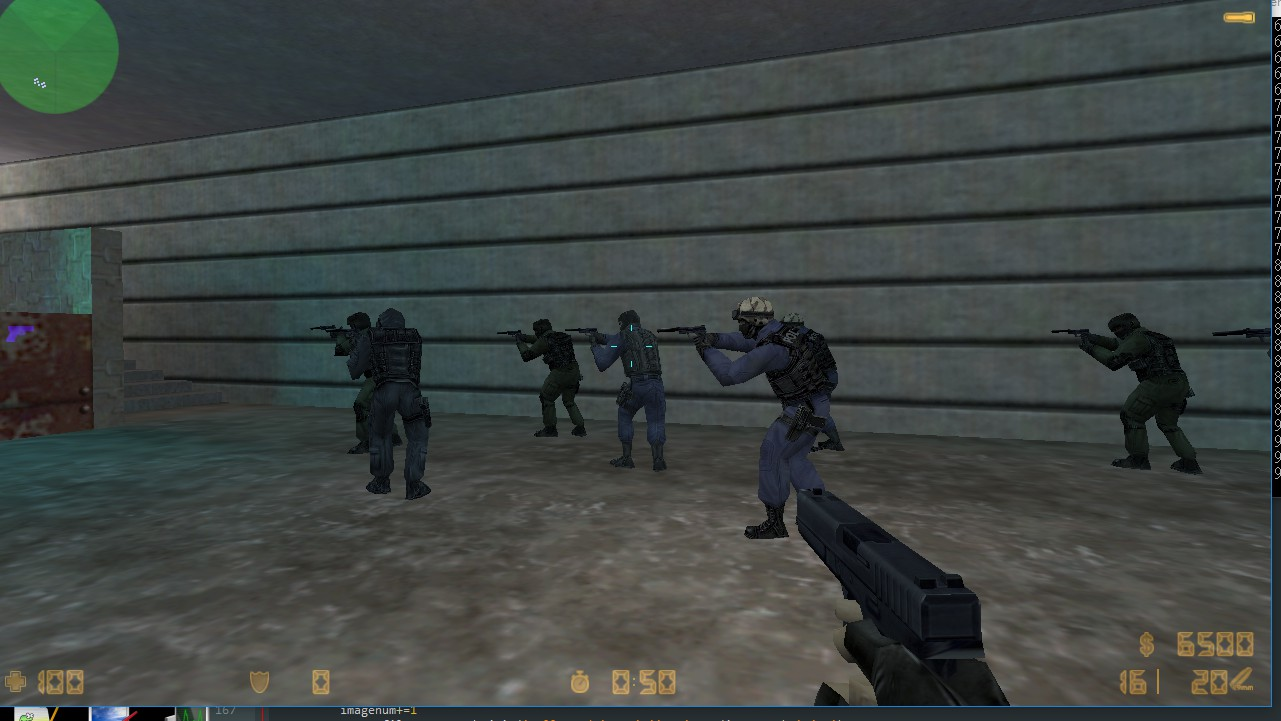person: (715, 287, 814, 536), (356, 309, 441, 514), (1105, 310, 1204, 477), (505, 304, 586, 448), (608, 303, 666, 468)
